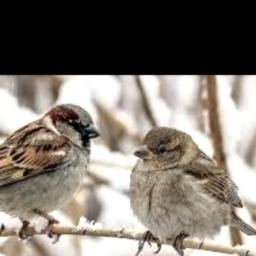Sparrow: (129, 126, 256, 256), (0, 103, 100, 244)
